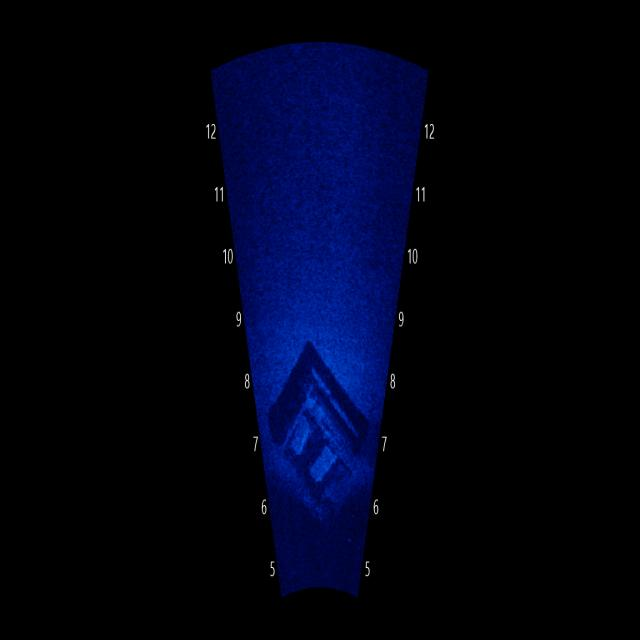square: (253, 325, 379, 539)
